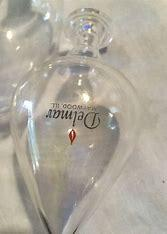Pear shaped flask: (14, 10, 135, 228)
